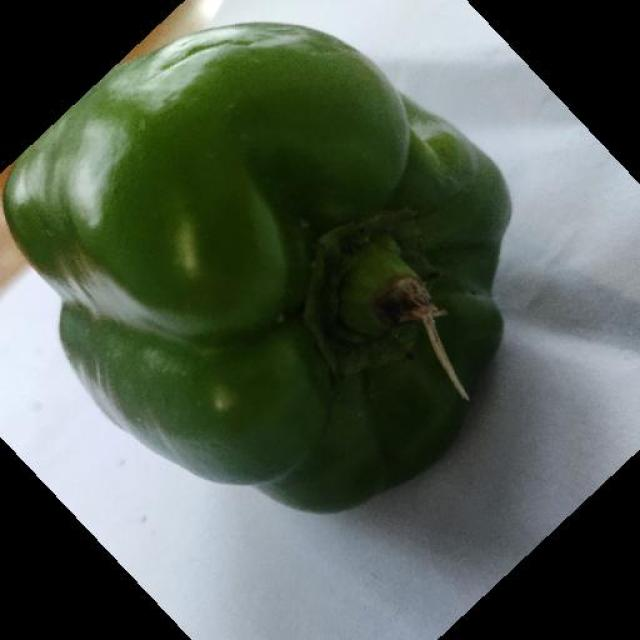Fresh_Capsicum: (25, 59, 507, 504)
